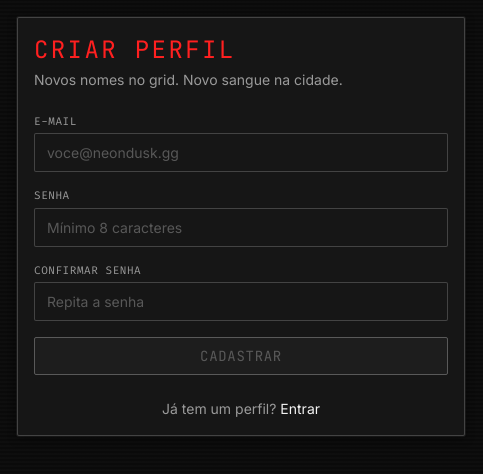
Scenario: RegisterView › should show an inline error for invalid email not-an-email
This screenshot has width=483, height=474.
Type "not-an-email" into the field with placeholder "voce@neondusk.gg" at (241, 153), box [34,133,448,172]
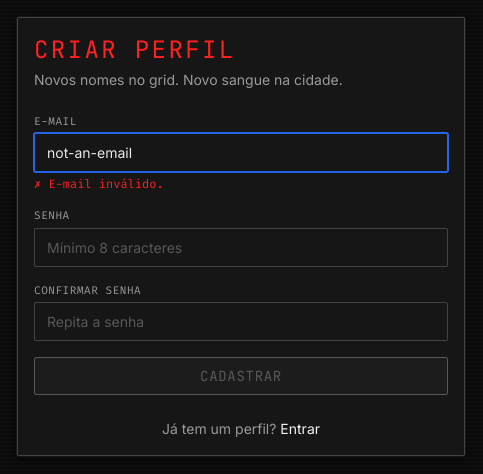
Expected: the button "CADASTRAR" is disabled, [34,357,448,395]
Expected: the text "✗ E-mail inválido." is shown, [34,176,164,192]
